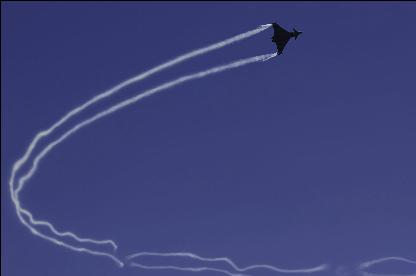E2: (272, 21, 302, 53)
